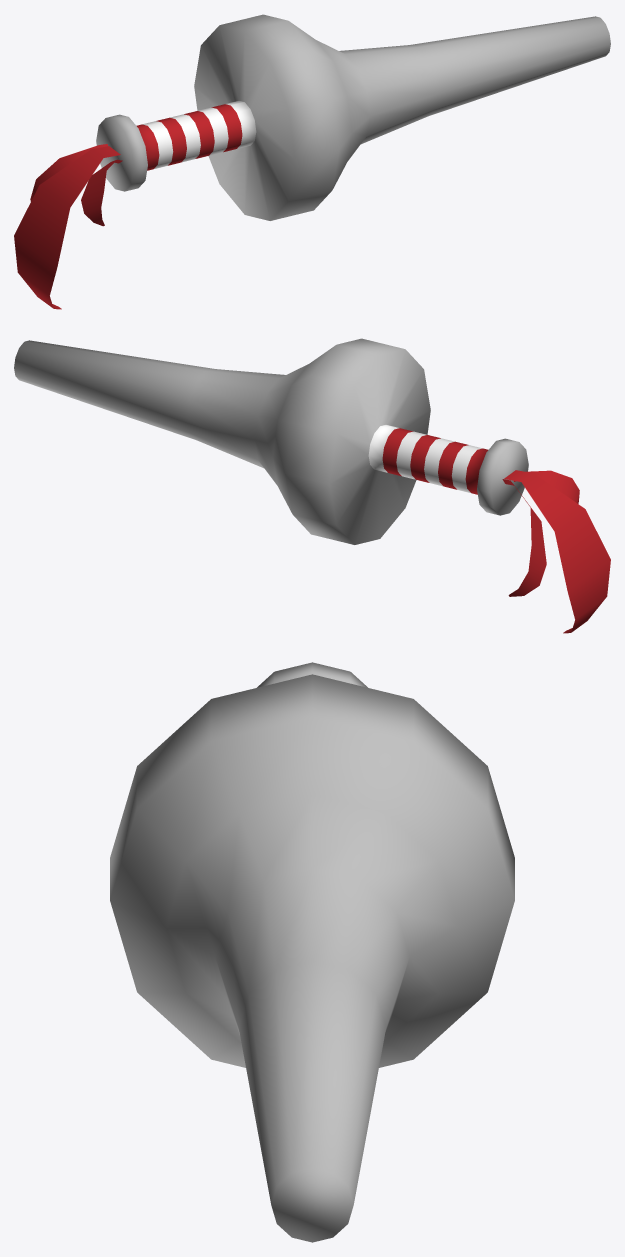
The model's file is lancebase.fbx.
3 views of the same model, one above another, from view 1: azimuth 30°, elevation 25°; view 2: azimuth 150°, elevation 25°; view 3: azimuth 270°, elevation 25° (orthographic). The views are drawn at different scales.
Visible parts, largest first — view 1: Lance, Feather1, Feather2, Feather3; view 2: Lance, Feather1, Feather3, Feather2; view 3: Lance.
Boxes of the visible parts, box(x1,y1,x2,y2) form: Lance: box(96, 14, 610, 220); Feather1: box(14, 146, 120, 309); Feather2: box(81, 159, 122, 226); Feather3: box(30, 144, 107, 201); Lance: box(14, 338, 528, 544); Feather1: box(504, 470, 610, 633); Feather3: box(502, 479, 546, 596); Feather2: box(514, 470, 579, 503); Lance: box(110, 662, 514, 1242).
Size of the model in its own units: 1025 by 400 by 317.
